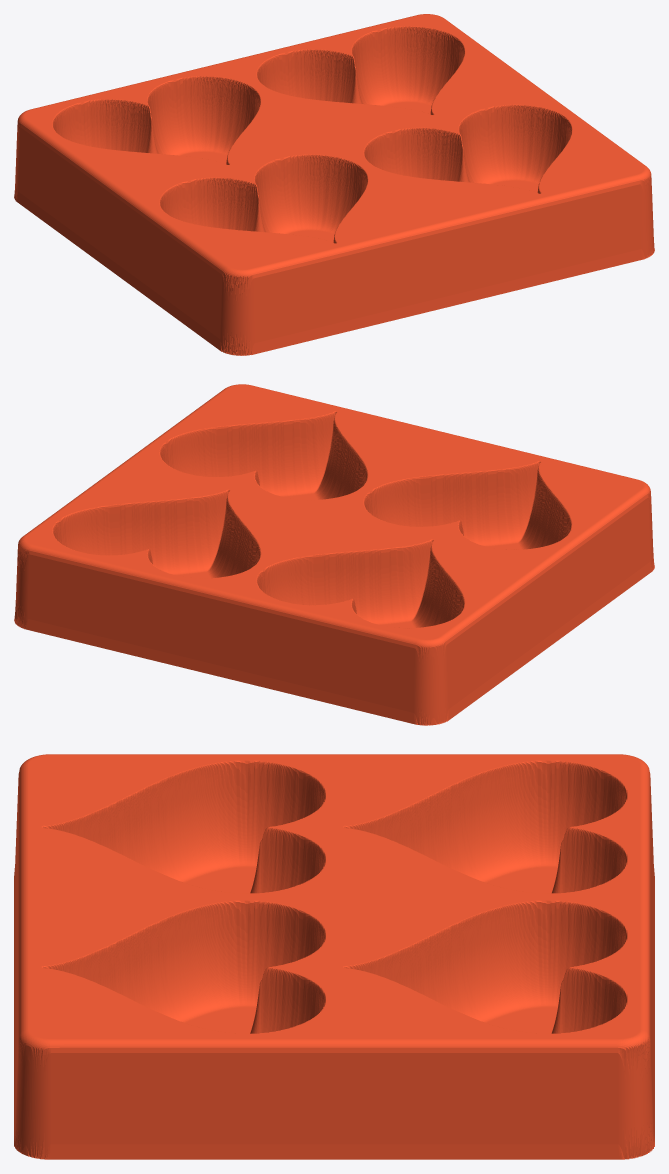
The model's file is mold.glb.
3 views of the same model, one above another, from view 1: azimuth 30°, elevation 25°; view 2: azimuth 150°, elevation 25°; view 3: azimuth 270°, elevation 25° (orthographic). The views are drawn at different scales.
Visible parts, largest first — view 1: geometry_0; view 2: geometry_0; view 3: geometry_0.
Boxes of the visible parts, x1,y1,x2,y2 form: geometry_0: (14, 14, 654, 355); geometry_0: (14, 384, 654, 725); geometry_0: (14, 754, 654, 1159).
Size of the model in its own units: 0.1721 by 0.031 by 0.1573.
